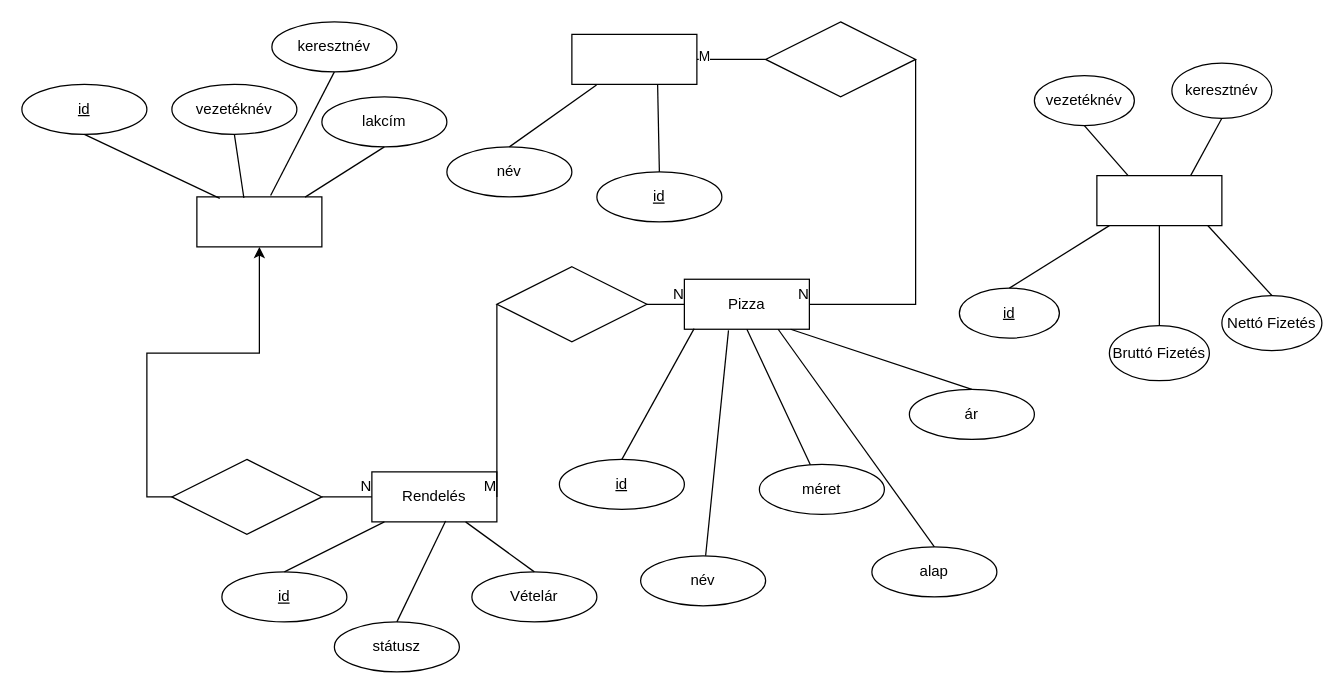
Image size: 1344x694. Some labels were removed from this diagram. The box of each missing label's shape, as (x1, y1, x2, y2) in pixels:
Dolgozó: (1096, 174, 1222, 226)
Feltét: (571, 33, 697, 84)
feltétje: (764, 21, 916, 97)
pizzarendelés: (496, 266, 647, 342)
rendel: (171, 458, 322, 534)
Ügyfél: (196, 196, 322, 247)
